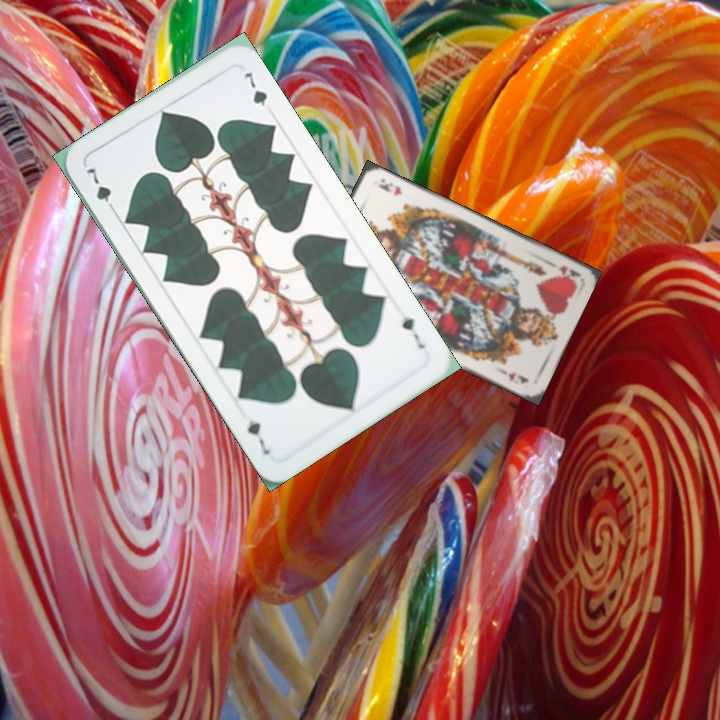G7: (82, 163, 119, 216), (397, 312, 428, 352)
HK: (553, 261, 583, 284)
